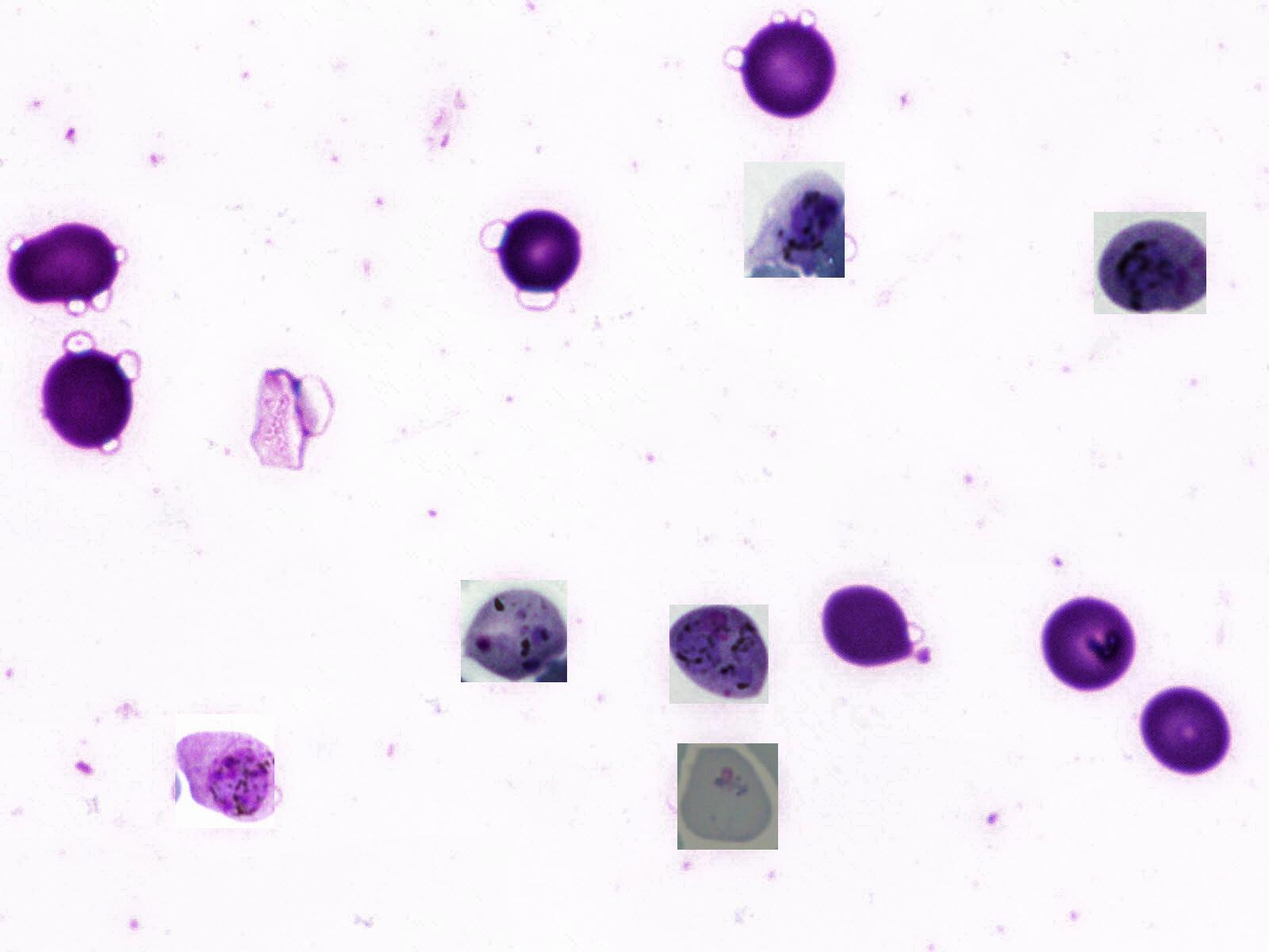Infected: (744, 162, 845, 278), (1094, 212, 1206, 314), (175, 714, 274, 828), (461, 580, 567, 682), (677, 743, 778, 850), (669, 605, 769, 704)
Uninfected: (735, 17, 841, 121), (38, 345, 136, 451), (1036, 595, 1142, 693), (6, 218, 119, 305), (1135, 684, 1234, 780), (818, 578, 918, 670), (497, 205, 585, 298)
